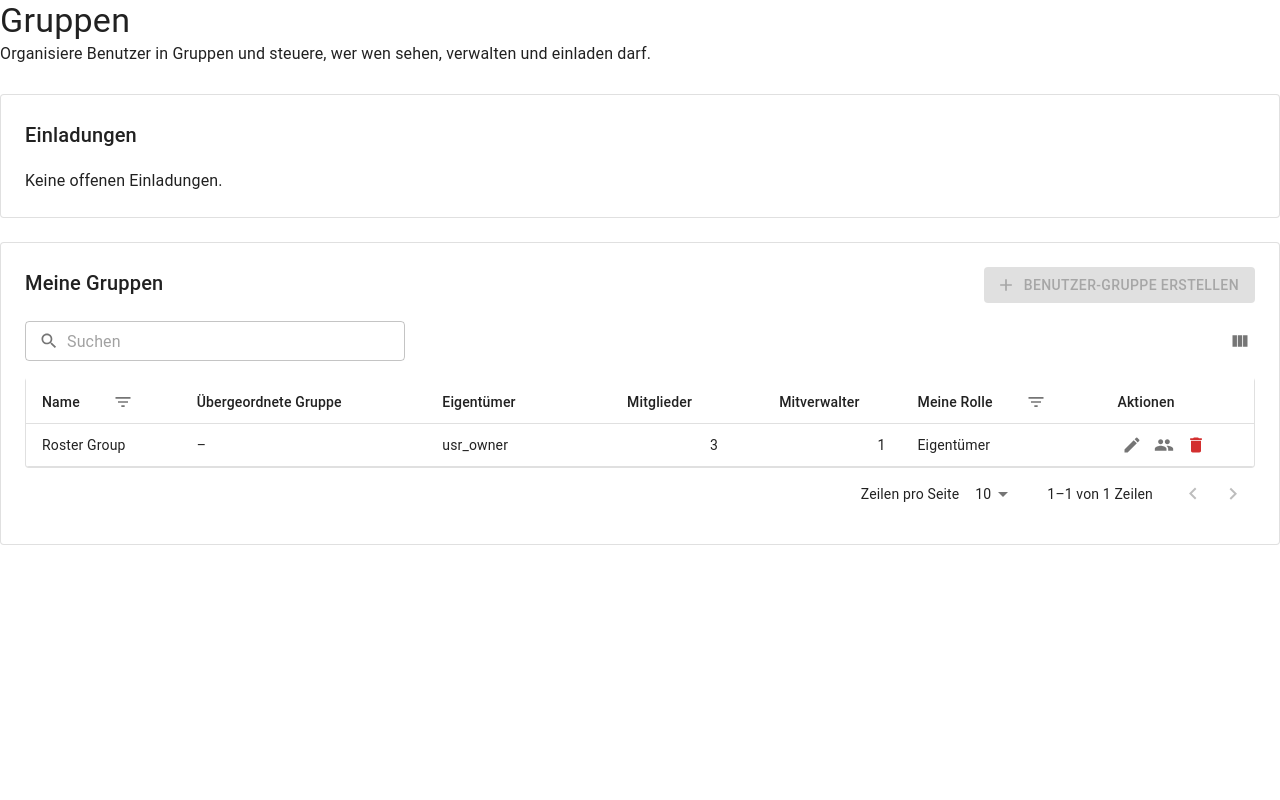
Test case: shows no coupled-project hint when the group has none
Step 1. Click the button named "Löschen" → (1196, 446), box [1181,430,1211,460]
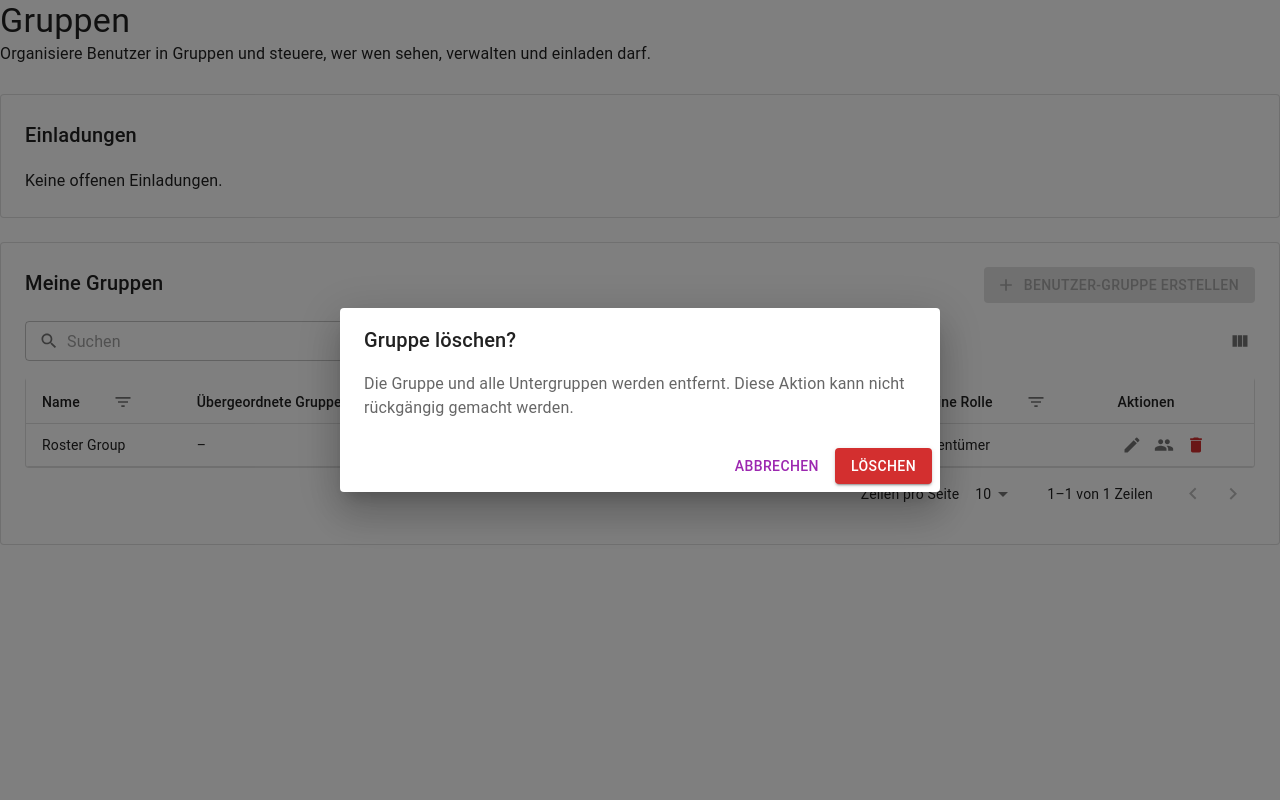
Result: the heading "Gruppe löschen?" is shown at [364,328,516,352]
